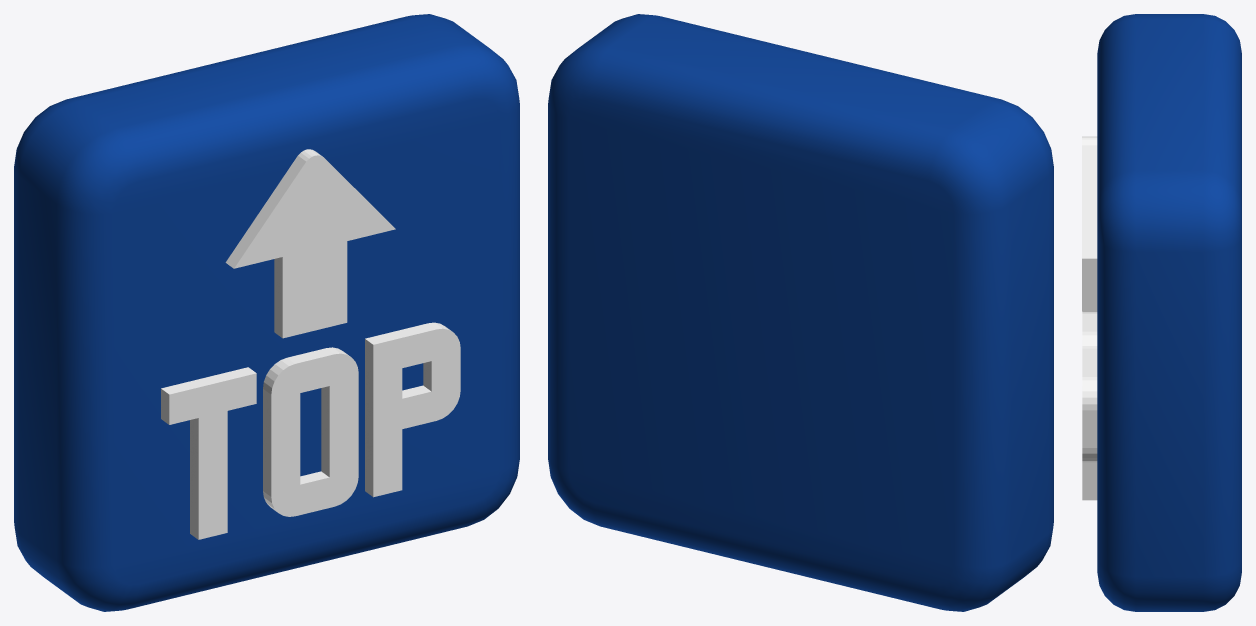
File: top_arrow.glb
The picture shows the model from 3 angles, left to right: view 1: azimuth 30°, elevation 25°; view 2: azimuth 150°, elevation 25°; view 3: azimuth 270°, elevation 25°; orthographic projection. The views are drawn at different scales.
Visible parts, largest first — view 1: Cube.6382; view 2: Cube.6382; view 3: Cube.6382.
Boxes of the visible parts, x1,y1,x2,y2 form: Cube.6382: (14, 14, 519, 611); Cube.6382: (548, 14, 1053, 611); Cube.6382: (1082, 14, 1241, 611).
Bounding box in the file's own units: 2.2 × 2.2 × 0.7301.
Materials: 1 (1 with a texture image).
